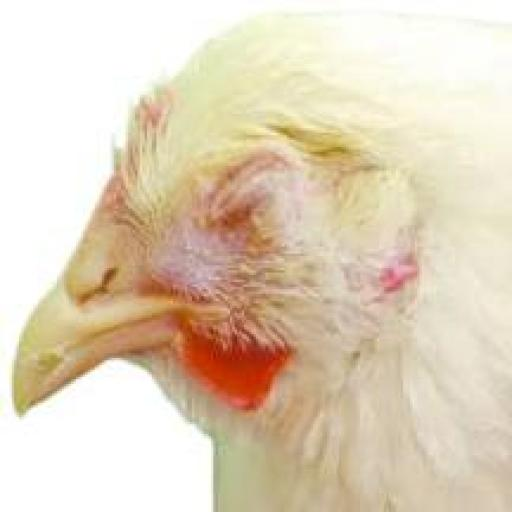disease: (175, 127, 334, 250)
